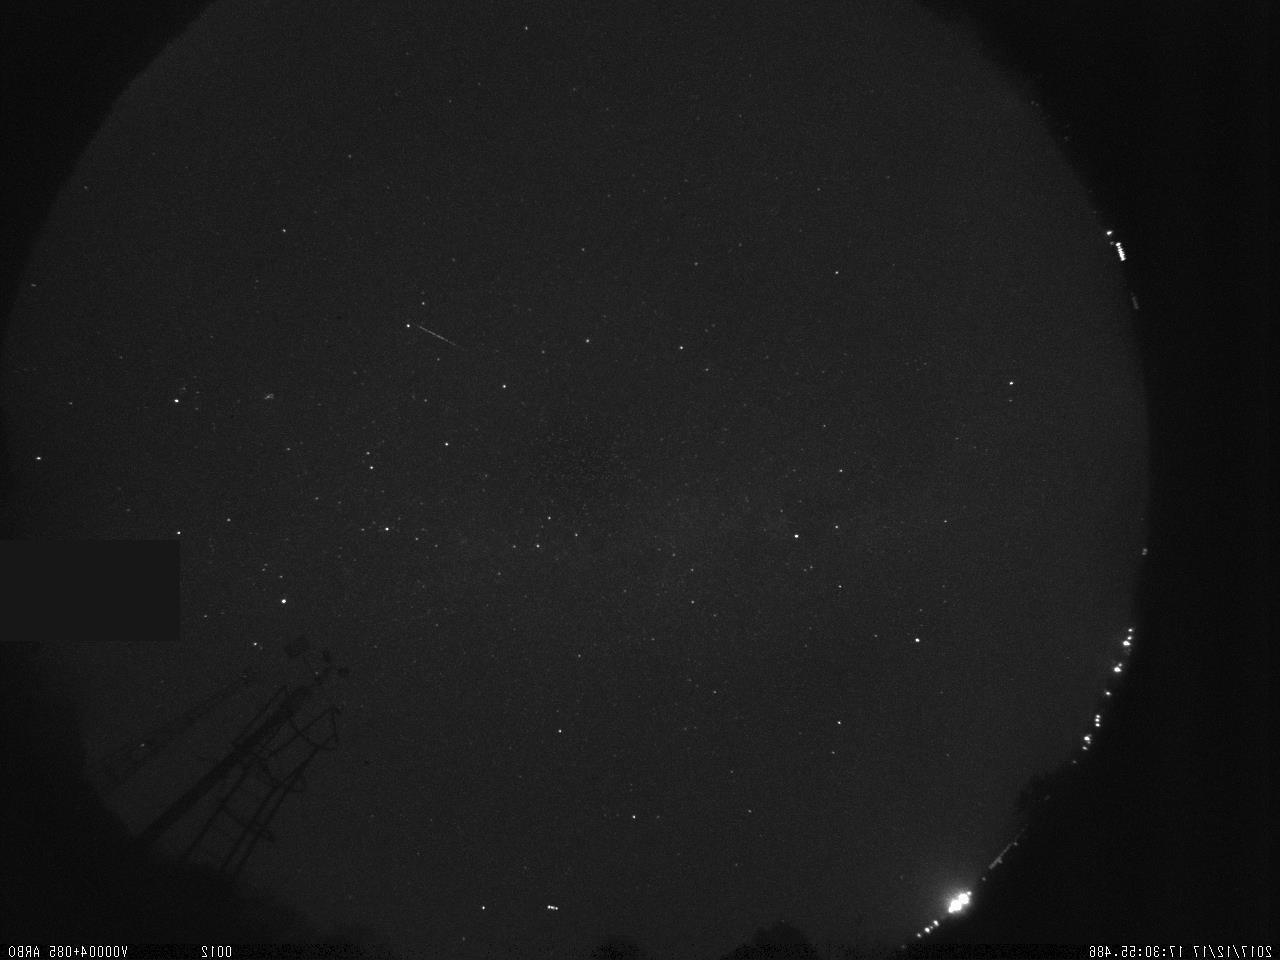meteor: (413, 322, 467, 350)
